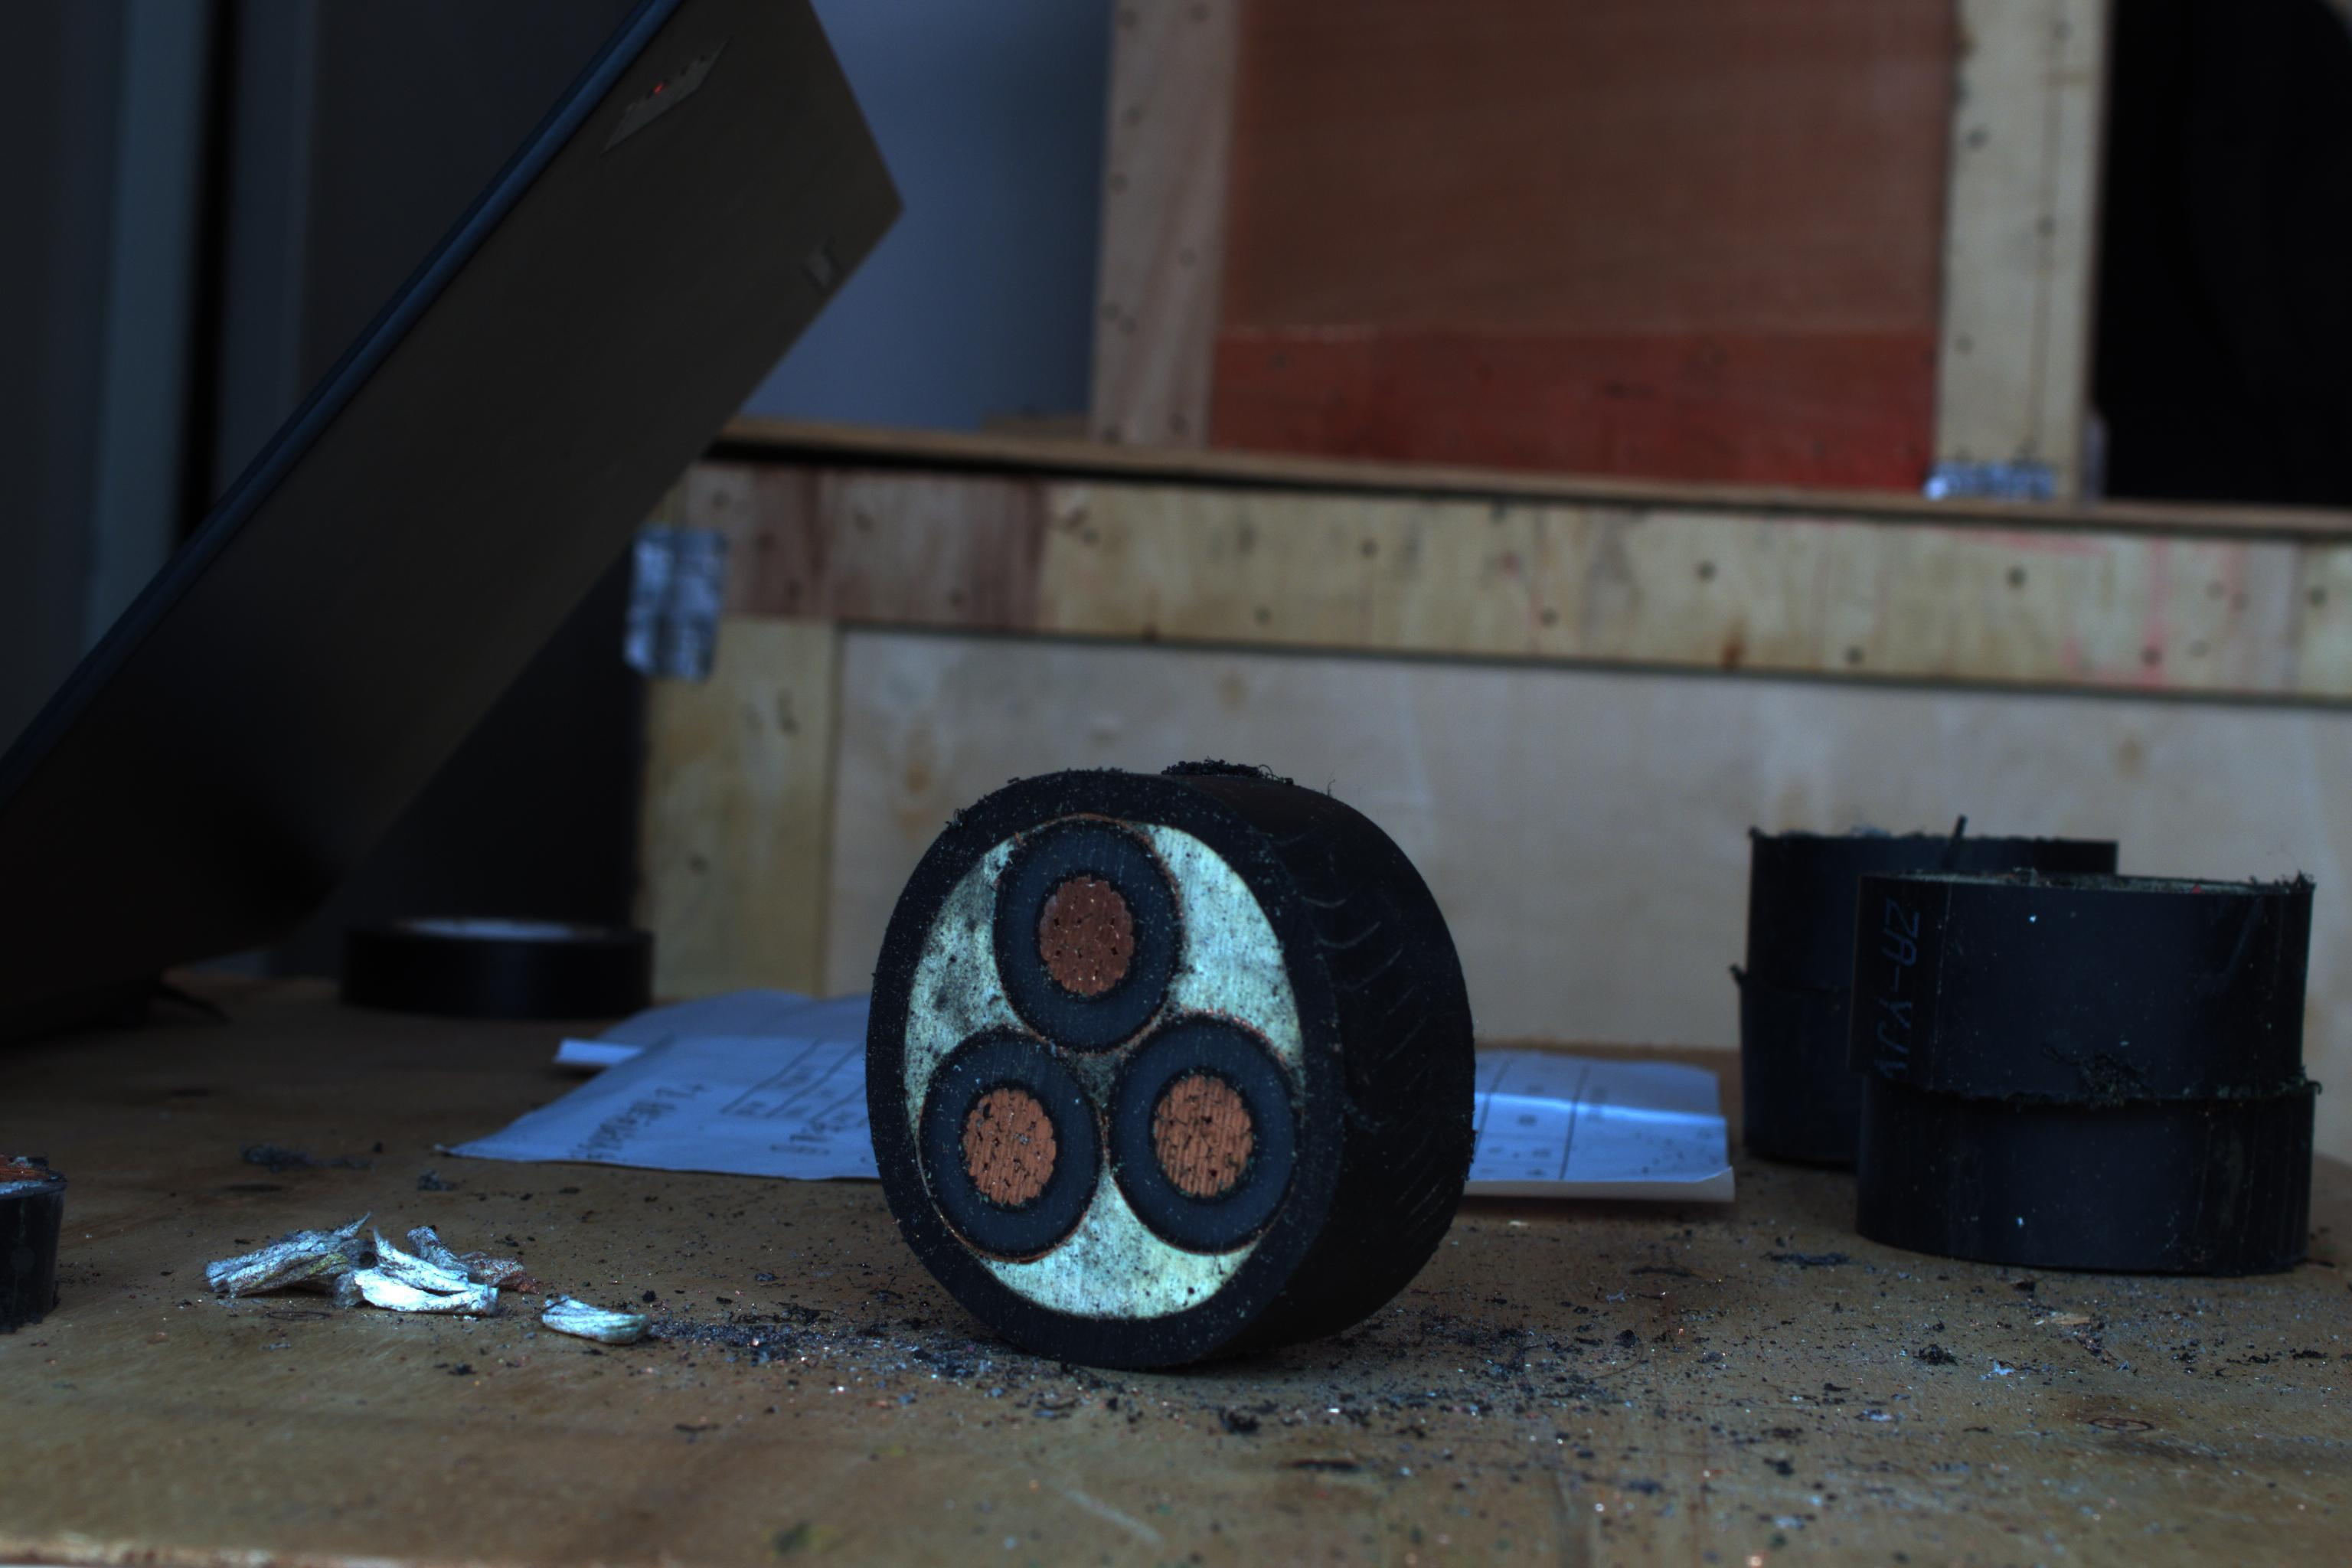ZA_YJV_8.7_10kV_3x120: (859, 787, 1323, 1360)
